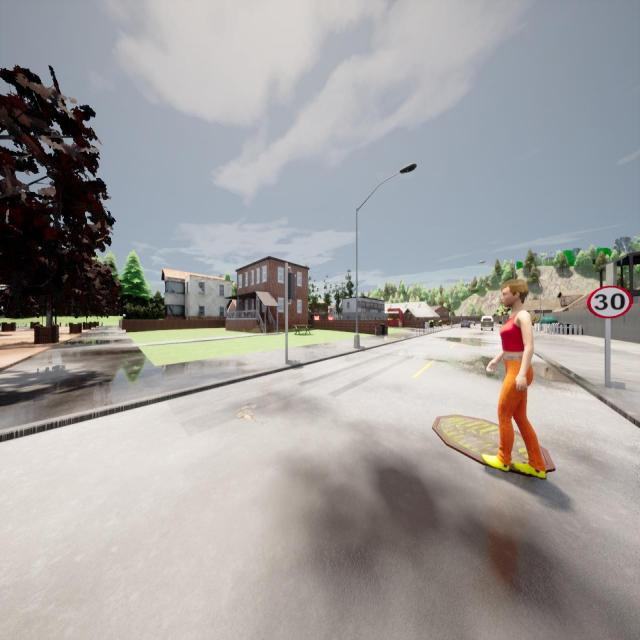Pedestrian: (486, 279, 546, 478)
Traffic_Signs: (588, 286, 632, 318)
Vehicle: (480, 316, 494, 331), (460, 319, 470, 329)
traffic_light: (288, 272, 295, 300)
